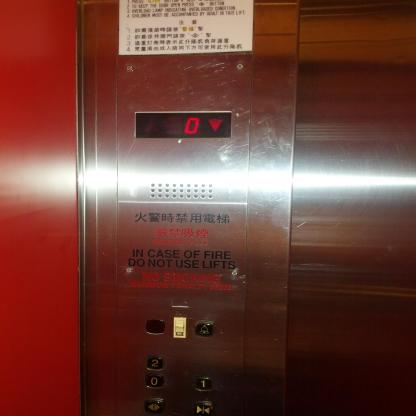0: (144, 373, 165, 389)
1: (193, 376, 214, 392)
2: (144, 354, 166, 372)
alarm: (193, 320, 215, 338)
close: (193, 400, 213, 416)
empty: (145, 318, 166, 335)
led: (133, 110, 233, 138)
open: (144, 397, 165, 415)
switch: (174, 317, 186, 337)
